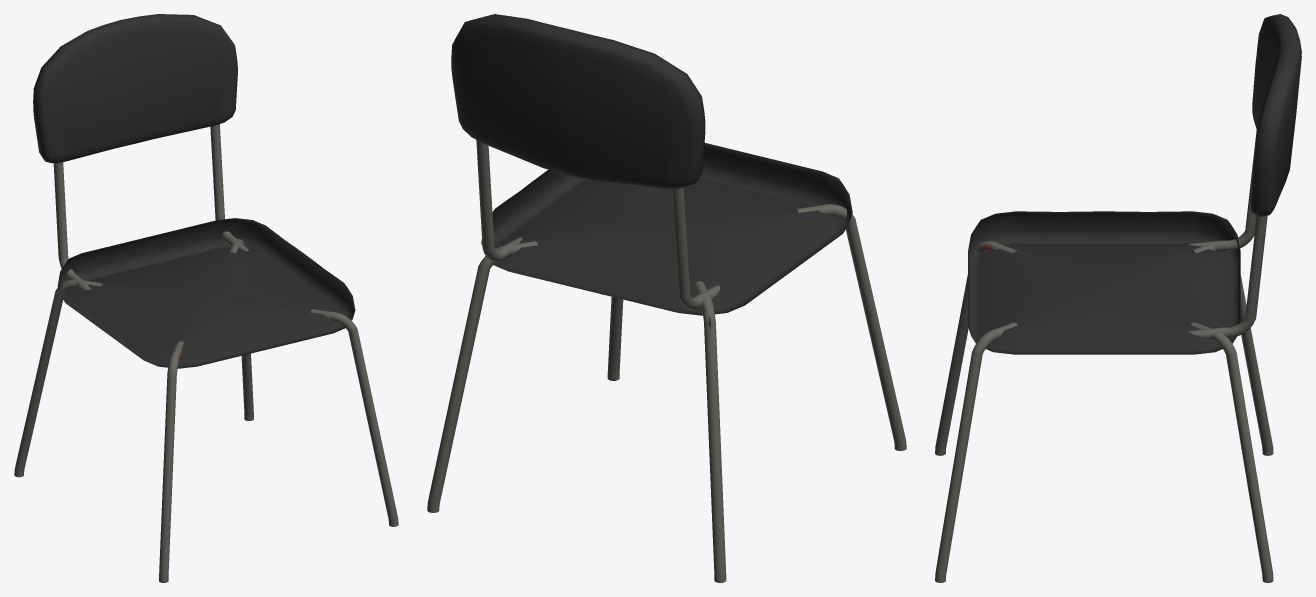
Rendered from sillaNegra.fbx.
3 renders of one model, left to right at view 1: azimuth 30°, elevation 25°; view 2: azimuth 150°, elevation 25°; view 3: azimuth 270°, elevation 25°, orthographic. The views are drawn at different scales.
Parts seen in each view (by area): view 1: soporte respaldo; view 2: soporte respaldo; view 3: soporte respaldo.
Boxes of the visible parts, x1,y1,x2,y2 form: soporte respaldo: (14,14,398,582); soporte respaldo: (427,14,906,582); soporte respaldo: (935,14,1301,582).
Bounding box in the file's own units: 54.01 × 90.93 × 63.55.
